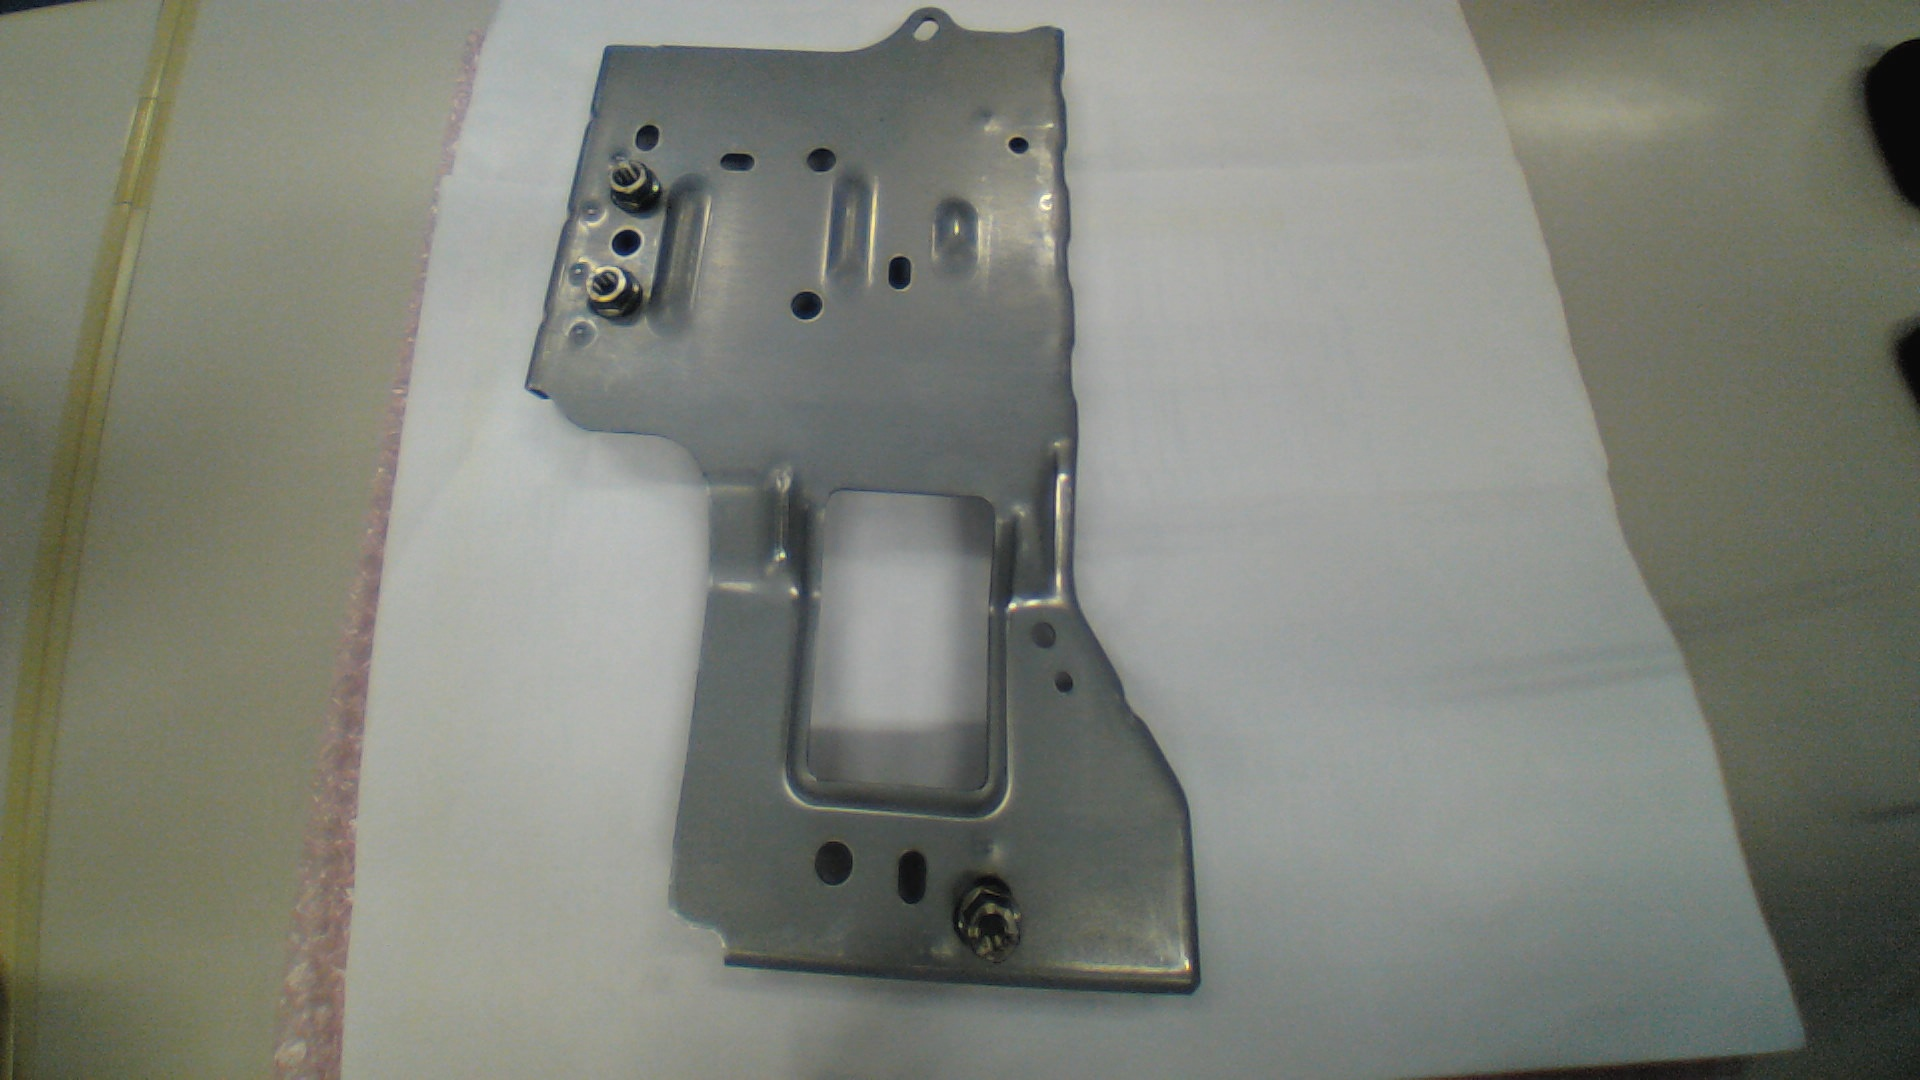dog: (959, 880, 1023, 965), (589, 269, 644, 322), (605, 162, 658, 214)
